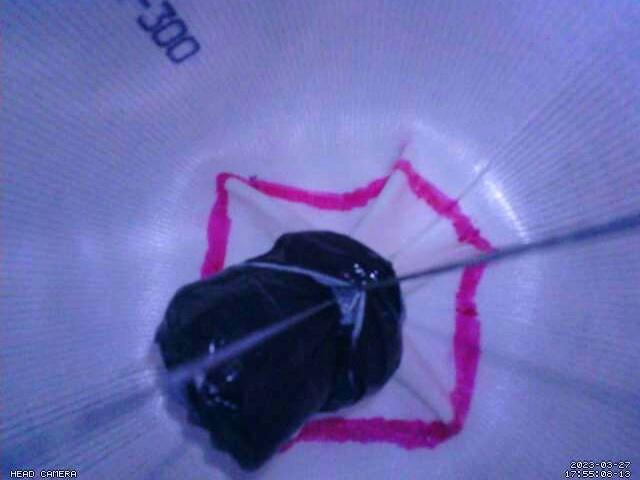red-circle: (200, 159, 496, 452)
